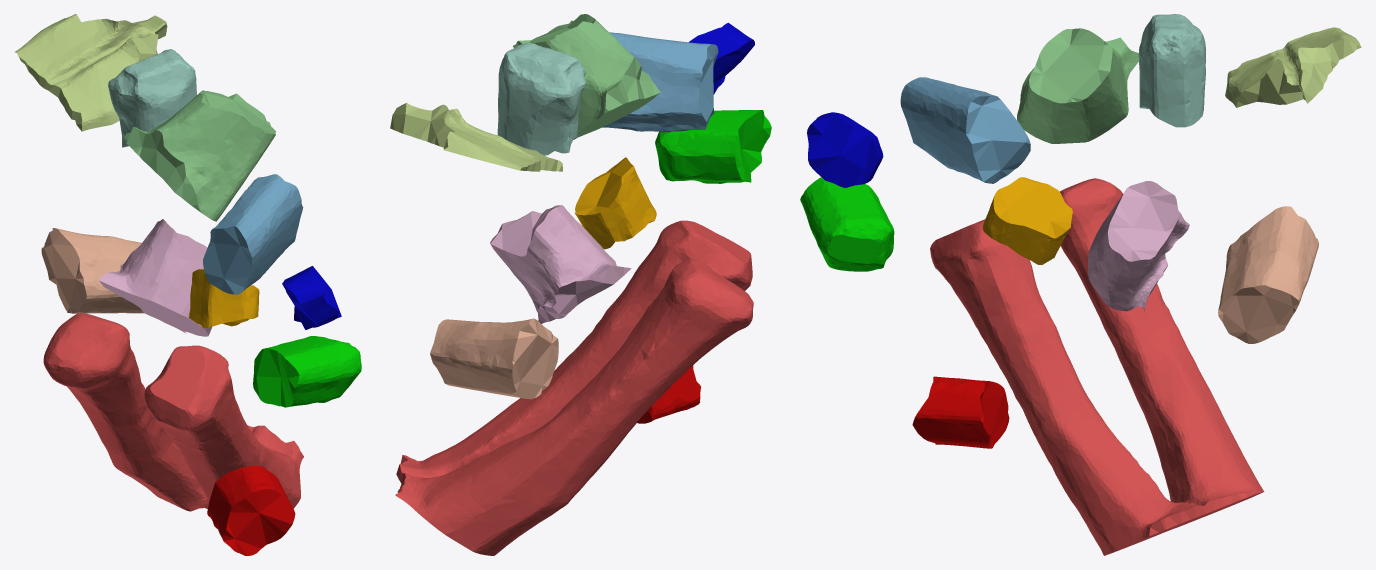
File: fractured_15_11pcs_transformed.glb
3 views of the same model, side by side, from view 1: azimuth 30°, elevation 25°; view 2: azimuth 150°, elevation 25°; view 3: azimuth 270°, elevation 25° (orthographic). The views are drawn at different scales.
Visible parts, largest first — view 1: piece_1.obj, piece_3.obj, piece_5.obj, piece_2.obj, piece_6.obj, piece_8.obj, piece_7.obj, piece_9.obj, piece_4.obj, piece_0.obj, piece_10.obj; view 2: piece_1.obj, piece_6.obj, piece_7.obj, piece_4.obj, piece_2.obj, piece_3.obj, piece_8.obj, piece_5.obj, piece_0.obj, piece_10.obj, piece_9.obj; view 3: piece_1.obj, piece_3.obj, piece_7.obj, piece_2.obj, piece_6.obj, piece_4.obj, piece_8.obj, piece_5.obj, piece_9.obj, piece_0.obj, piece_10.obj.
Boxes of the visible parts, left/top/right/bottom form: piece_1.obj: left=43, top=313, right=303, bottom=511; piece_3.obj: left=125, top=90, right=275, bottom=221; piece_5.obj: left=15, top=14, right=167, bottom=131; piece_2.obj: left=203, top=174, right=303, bottom=294; piece_6.obj: left=99, top=219, right=211, bottom=336; piece_8.obj: left=253, top=336, right=361, bottom=407; piece_7.obj: left=41, top=228, right=143, bottom=313; piece_9.obj: left=207, top=465, right=295, bottom=555; piece_4.obj: left=108, top=49, right=196, bottom=147; piece_0.obj: left=189, top=269, right=259, bottom=328; piece_10.obj: left=282, top=266, right=341, bottom=329; piece_1.obj: left=395, top=220, right=753, bottom=555; piece_6.obj: left=490, top=205, right=631, bottom=323; piece_7.obj: left=430, top=318, right=558, bottom=399; piece_4.obj: left=497, top=42, right=585, bottom=155; piece_2.obj: left=602, top=32, right=718, bottom=132; piece_3.obj: left=513, top=14, right=660, bottom=137; piece_8.obj: left=655, top=110, right=771, bottom=183; piece_5.obj: left=390, top=103, right=562, bottom=171; piece_0.obj: left=575, top=157, right=656, bottom=249; piece_10.obj: left=689, top=22, right=754, bottom=94; piece_9.obj: left=637, top=365, right=700, bottom=423; piece_1.obj: left=930, top=178, right=1264, bottom=555; piece_3.obj: left=1017, top=28, right=1138, bottom=143; piece_7.obj: left=1218, top=206, right=1318, bottom=343; piece_2.obj: left=900, top=77, right=1030, bottom=183; piece_6.obj: left=1088, top=181, right=1189, bottom=312; piece_4.obj: left=1138, top=14, right=1205, bottom=127; piece_8.obj: left=800, top=177, right=894, bottom=271; piece_5.obj: left=1225, top=27, right=1361, bottom=107; piece_9.obj: left=912, top=376, right=1009, bottom=448; piece_0.obj: left=982, top=177, right=1072, bottom=264; piece_10.obj: left=807, top=112, right=883, bottom=187.
Size of the model in its own units: 0.8686 by 1.35 by 1.39.
